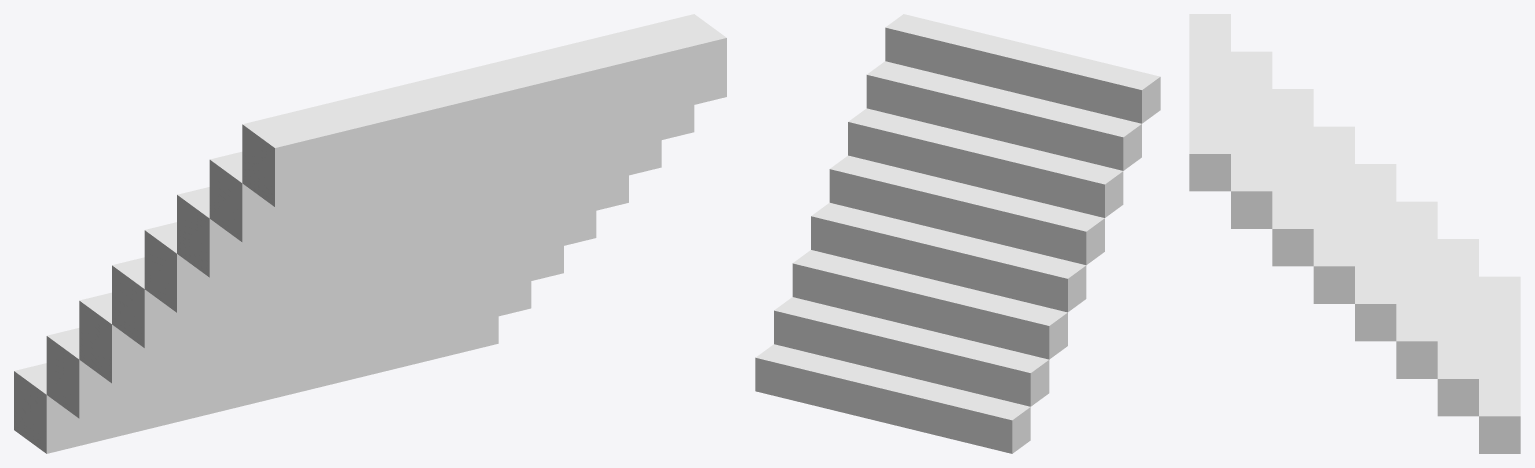
Rendered from no way are these stairs.obj.
3 views of the same model, side by side, from view 1: azimuth 30°, elevation 25°; view 2: azimuth 150°, elevation 25°; view 3: azimuth 270°, elevation 25° (orthographic). The views are drawn at different scales.
Parts seen in each view (by area): view 1: cube; view 2: cube; view 3: cube.
Part boxes in pixels (x1=…): cube: x1=14, y1=14, x2=726, y2=453; cube: x1=755, y1=14, x2=1160, y2=453; cube: x1=1189, y1=14, x2=1520, y2=453.
Bounding box in the file's own units: 1 × 1 × 1.
Materials: 1 (1 with a texture image).
